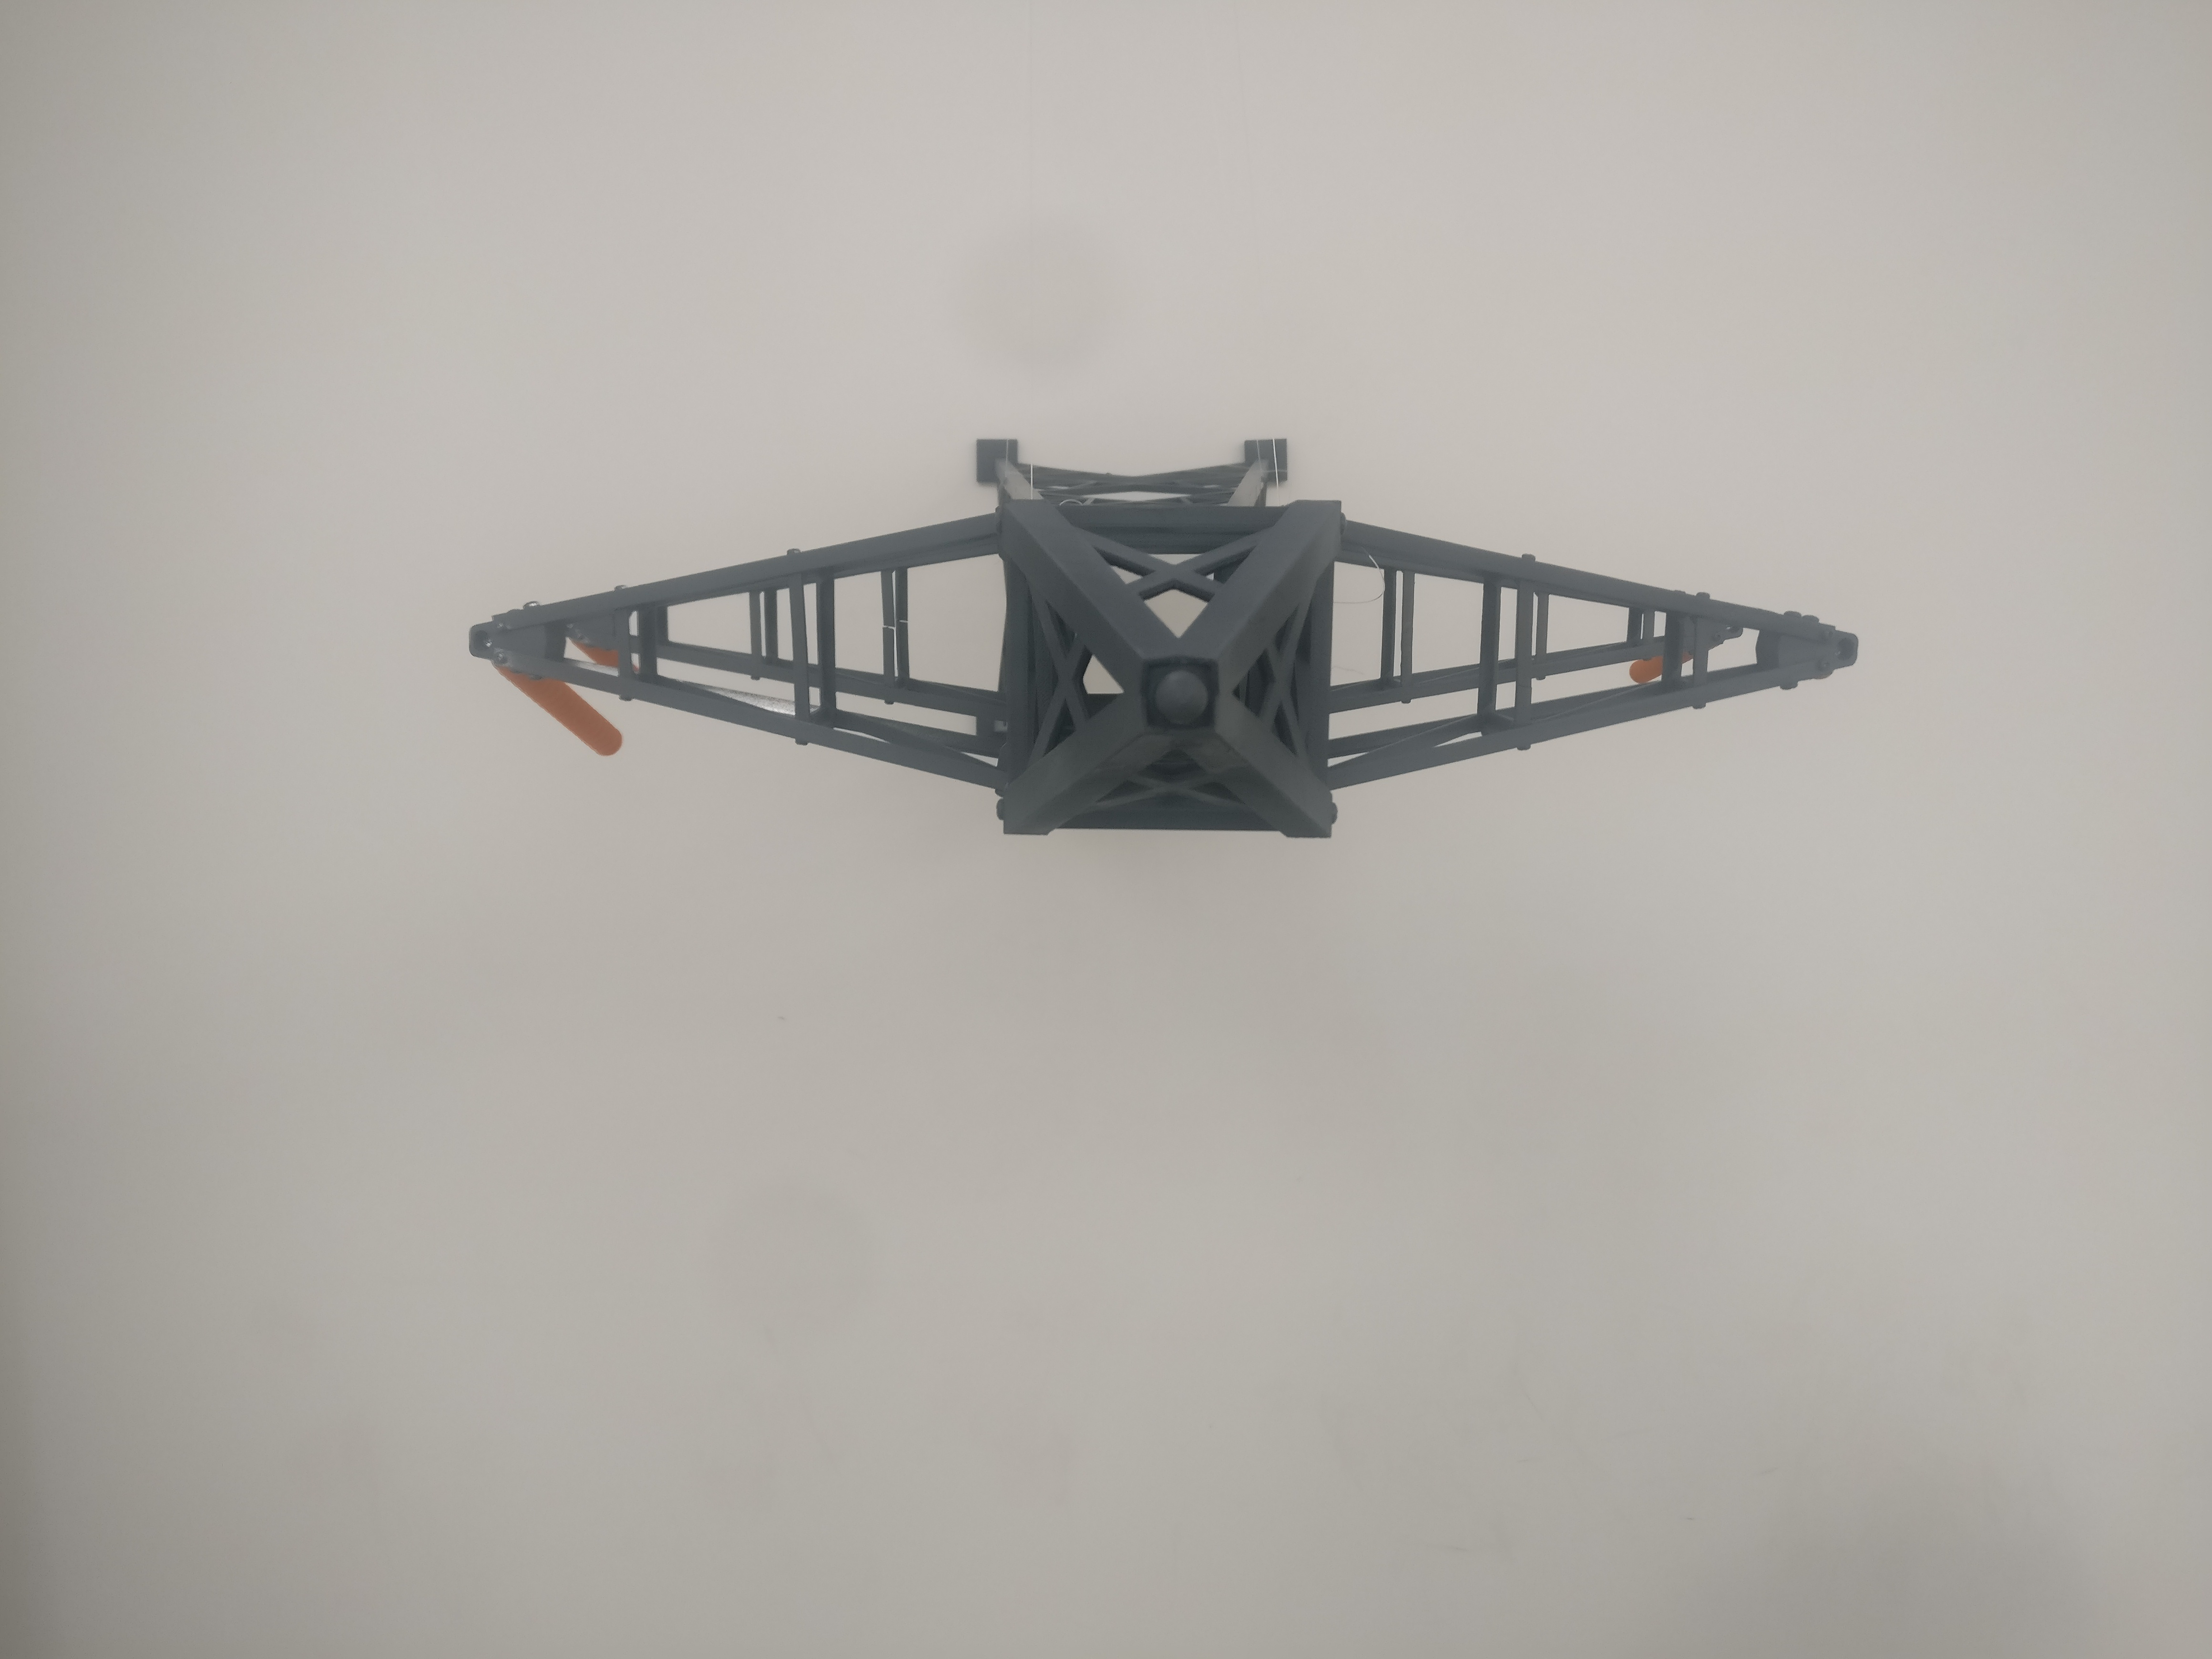pylon_phy: (469, 498, 1860, 842)
